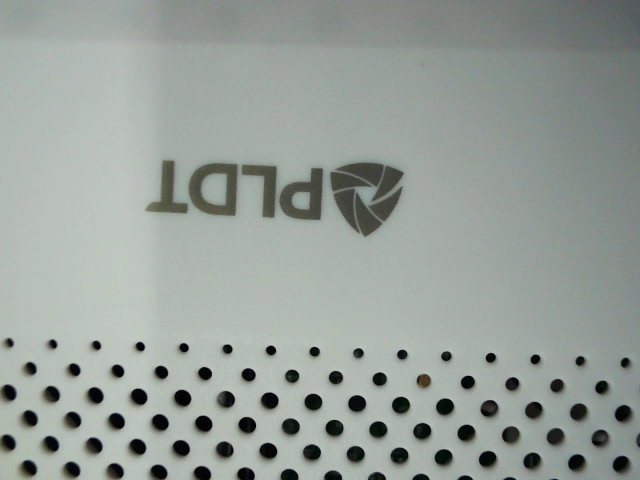BH_PLDT: (145, 144, 415, 248)
